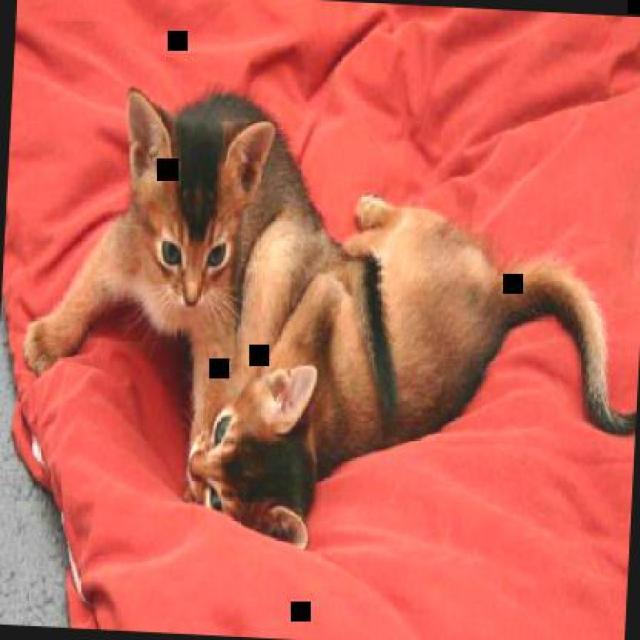cat: (182, 185, 638, 569), (21, 62, 417, 440)
